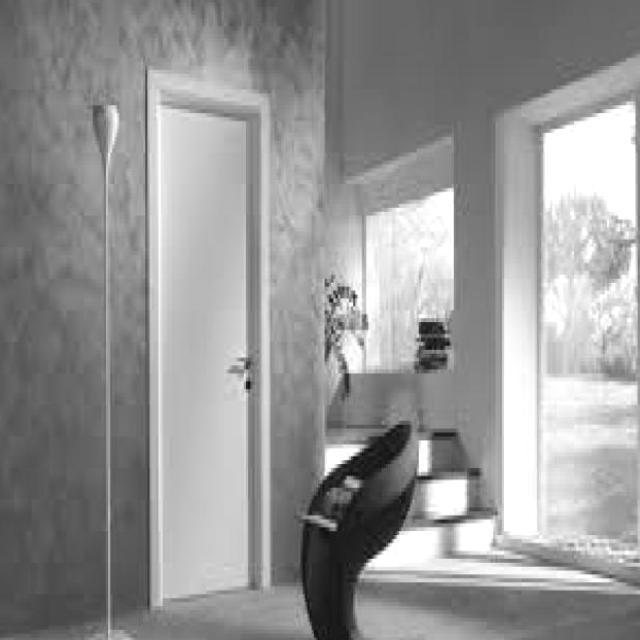door: (147, 76, 267, 604)
